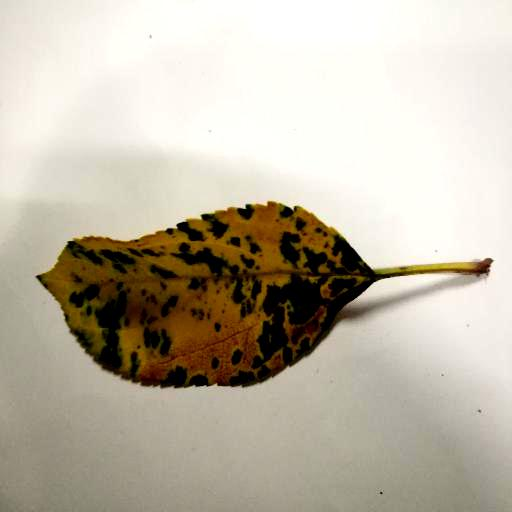Brown_Spot: (237, 276, 347, 363)
